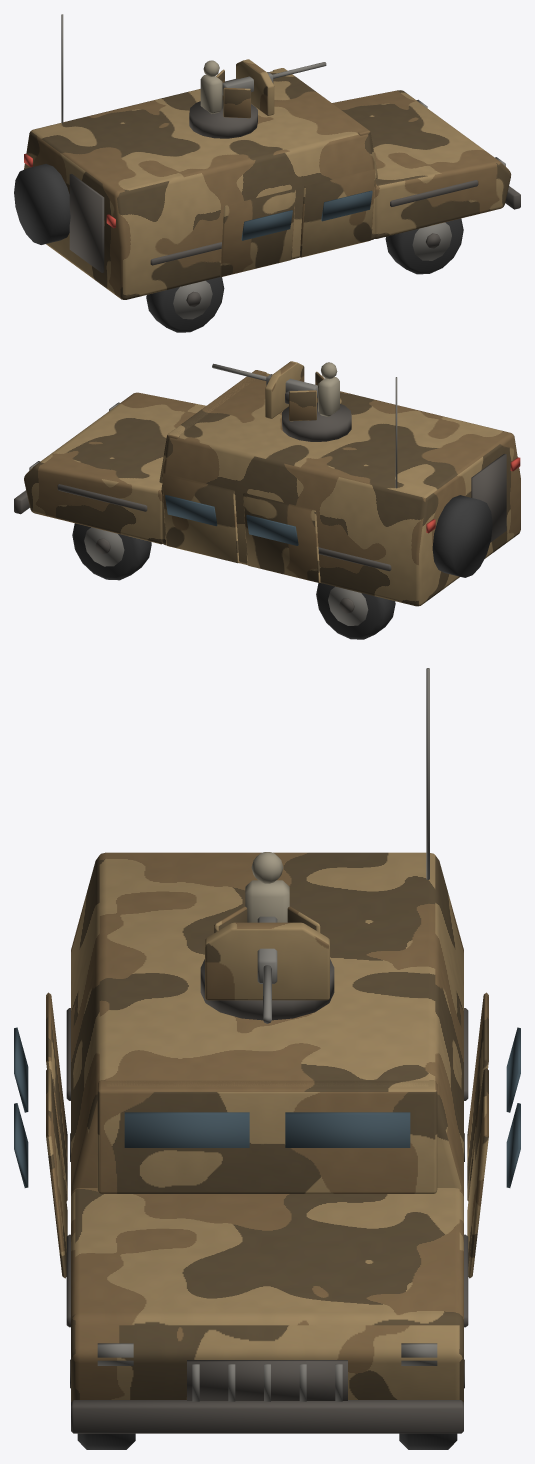
File: fh_battle_e_convoy_scout.glb
3 views of the same model, one above another, from view 1: azimuth 30°, elevation 25°; view 2: azimuth 150°, elevation 25°; view 3: azimuth 270°, elevation 25° (orthographic). The views are drawn at different scales.
Visible parts, largest first — view 1: convoy_scout, turret, wheel_1r, wheel_fr; view 2: convoy_scout, turret, wheel_1l, wheel_fl; view 3: convoy_scout, turret, wheel_fl, wheel_fr.
Part boxes in pixels (x1,y1,x2,y2): convoy_scout: (14,14,520,299); turret: (189,59,326,138); wheel_1r: (146,277,224,332); wheel_fr: (385,218,463,274); convoy_scout: (14,370,520,606); turret: (212,361,351,441); wheel_1l: (316,583,395,639); wheel_fl: (72,523,151,580); convoy_scout: (14,668,520,1433); turret: (200,852,334,1023); wheel_fl: (399,1359,464,1449); wheel_fr: (70,1359,135,1449).
Size of the model in its own units: 1.05 by 0.63 by 0.5677.
7 materials, 1 textured.
